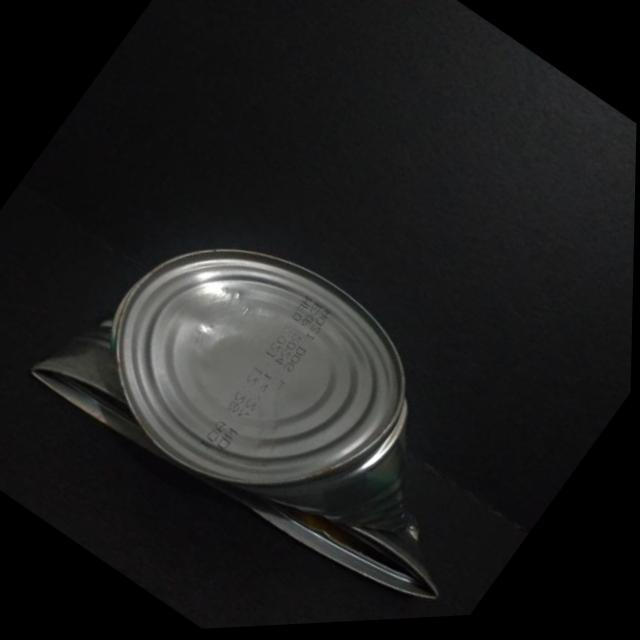metal: (0, 171, 521, 639)
